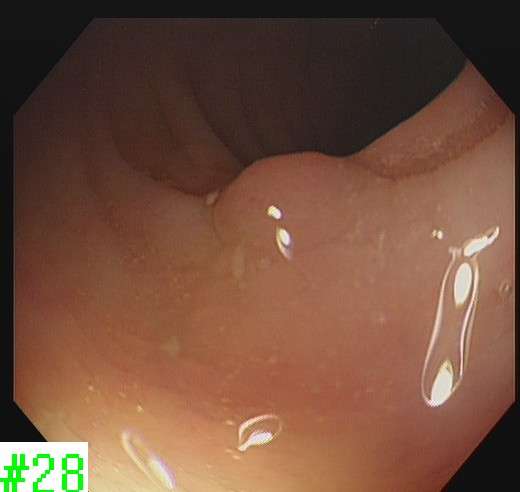adenoma: (208, 148, 392, 252)
